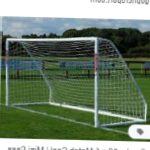goals: (2, 35, 150, 128)
